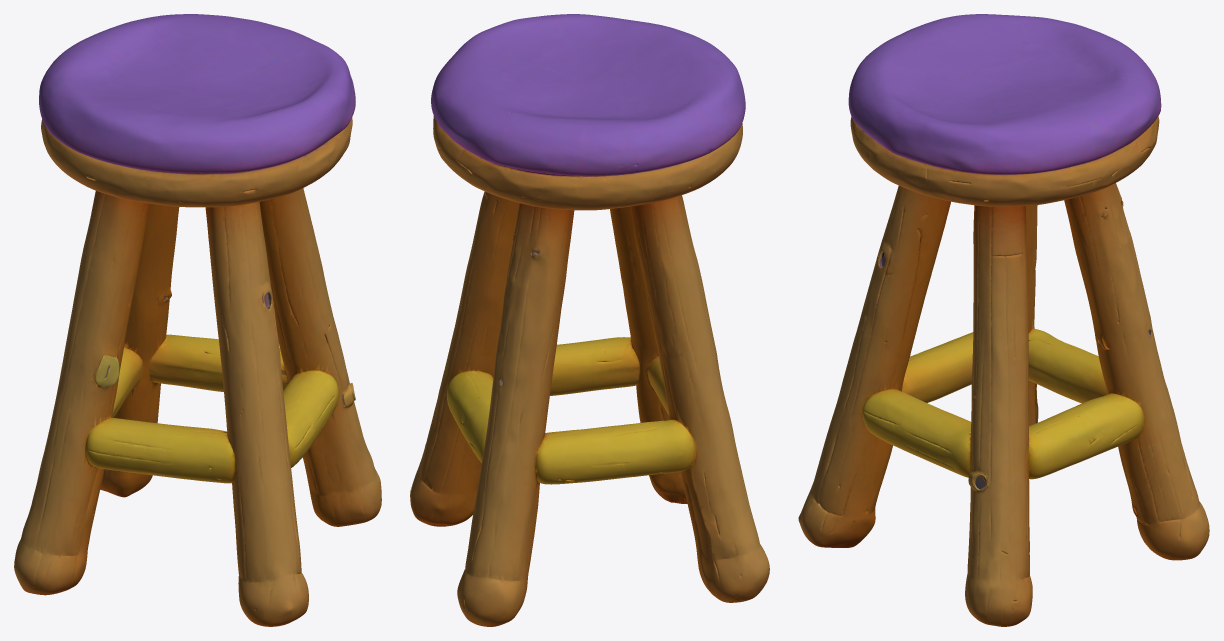
File: stool-web.glb
3 renders of one model, left to right at view 1: azimuth 30°, elevation 25°; view 2: azimuth 150°, elevation 25°; view 3: azimuth 270°, elevation 25°, orthographic.
Parts seen in each view (by area): view 1: tripo_node_876bded0-b02b-4379-a50b-351e6d74039b; view 2: tripo_node_876bded0-b02b-4379-a50b-351e6d74039b; view 3: tripo_node_876bded0-b02b-4379-a50b-351e6d74039b.
Part boxes in pixels (x1=…): tripo_node_876bded0-b02b-4379-a50b-351e6d74039b: x1=14, y1=14, x2=381, y2=626; tripo_node_876bded0-b02b-4379-a50b-351e6d74039b: x1=410, y1=14, x2=769, y2=626; tripo_node_876bded0-b02b-4379-a50b-351e6d74039b: x1=798, y1=14, x2=1209, y2=626.
Bounding box in the file's own units: 0.7595 × 1 × 0.7732.
1 material, 1 textured.
